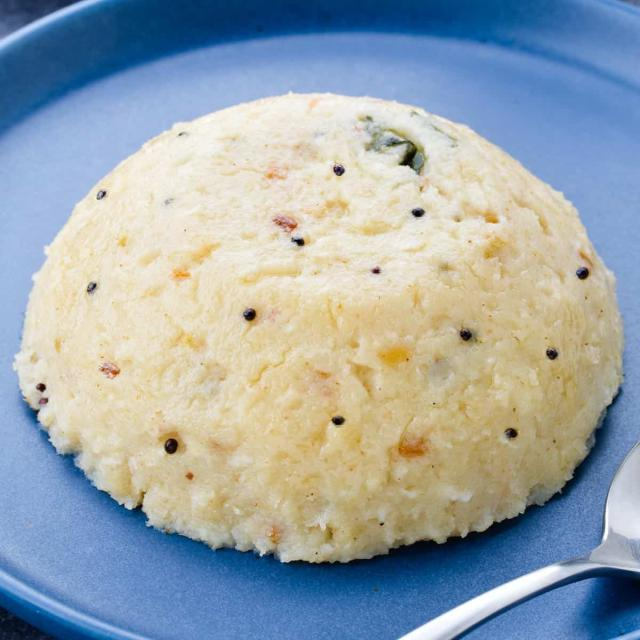UPMA: (13, 94, 622, 562)
